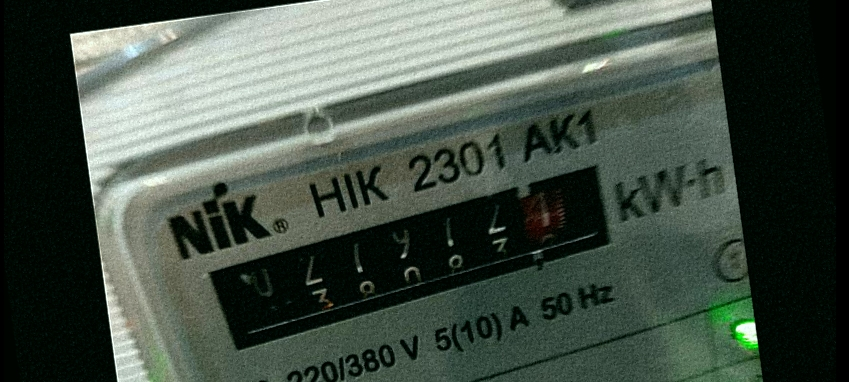0: (246, 261, 279, 301)
1: (532, 186, 559, 231)
2: (294, 246, 328, 288), (479, 196, 511, 237)
7: (433, 208, 464, 252), (343, 237, 371, 276)
9: (388, 223, 419, 261)
screen: (185, 151, 653, 364)
